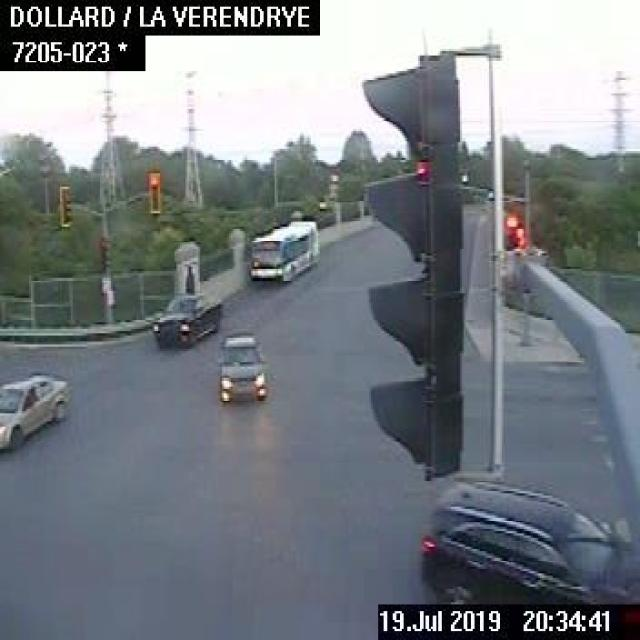bus: (246, 213, 320, 285)
vehicle: (416, 473, 638, 602), (0, 366, 69, 456), (147, 291, 224, 350), (216, 329, 270, 405)
